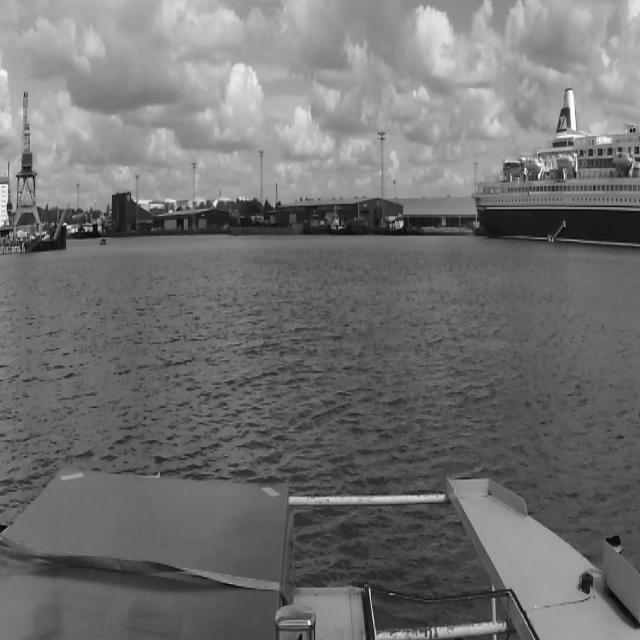ship: (474, 84, 636, 248), (304, 214, 366, 235), (380, 210, 411, 237), (100, 236, 106, 244)
